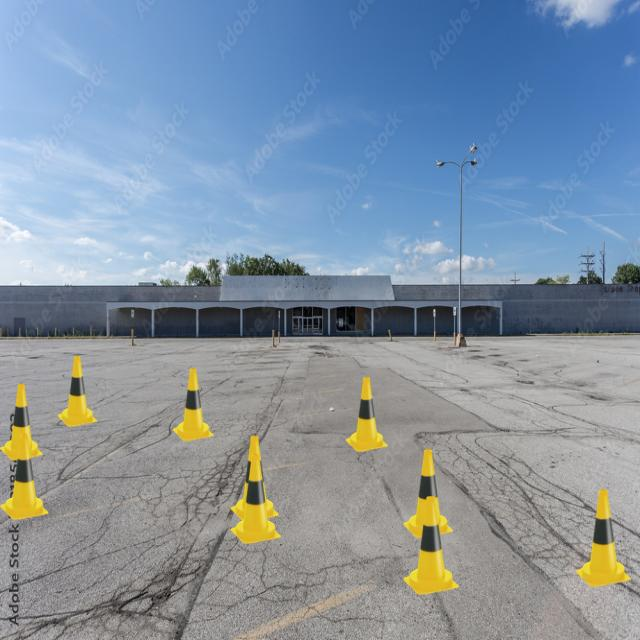yellow_cone: (403, 496, 459, 595), (576, 490, 631, 588), (230, 454, 281, 544), (403, 449, 453, 538), (230, 436, 279, 522), (0, 434, 49, 520), (0, 384, 43, 461), (346, 377, 388, 452), (173, 368, 214, 442), (58, 356, 97, 427)
